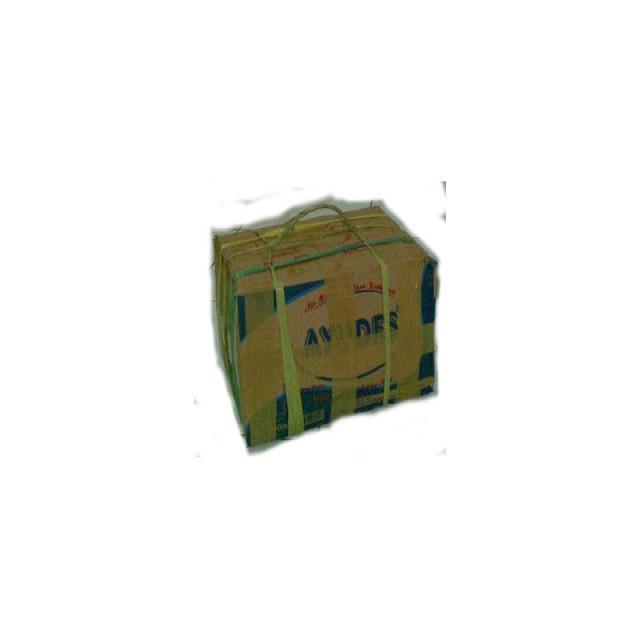box: (213, 205, 432, 440)
